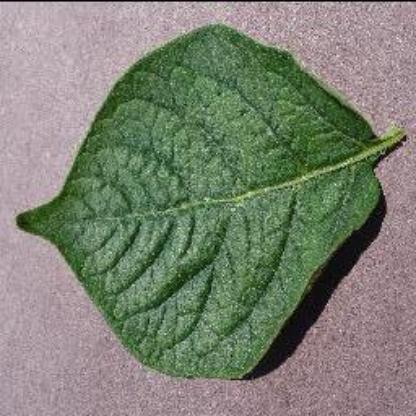Healthy-plant: (20, 21, 408, 384)
